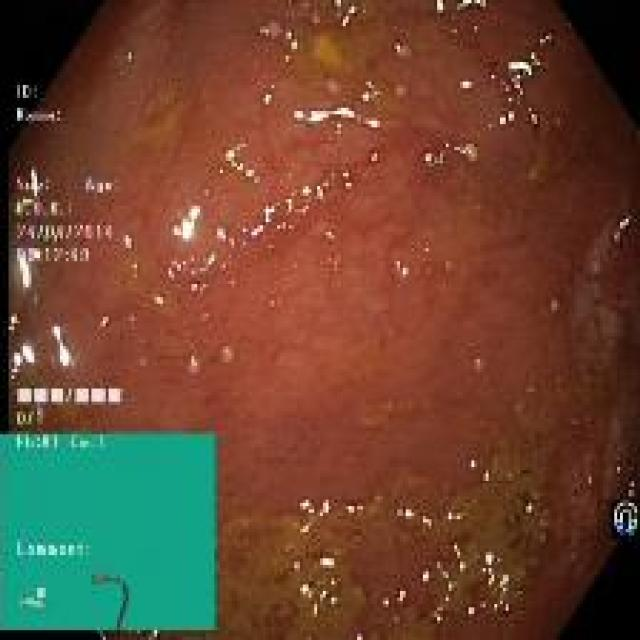ulcerative-colitis-grade-1: (10, 0, 640, 639)
